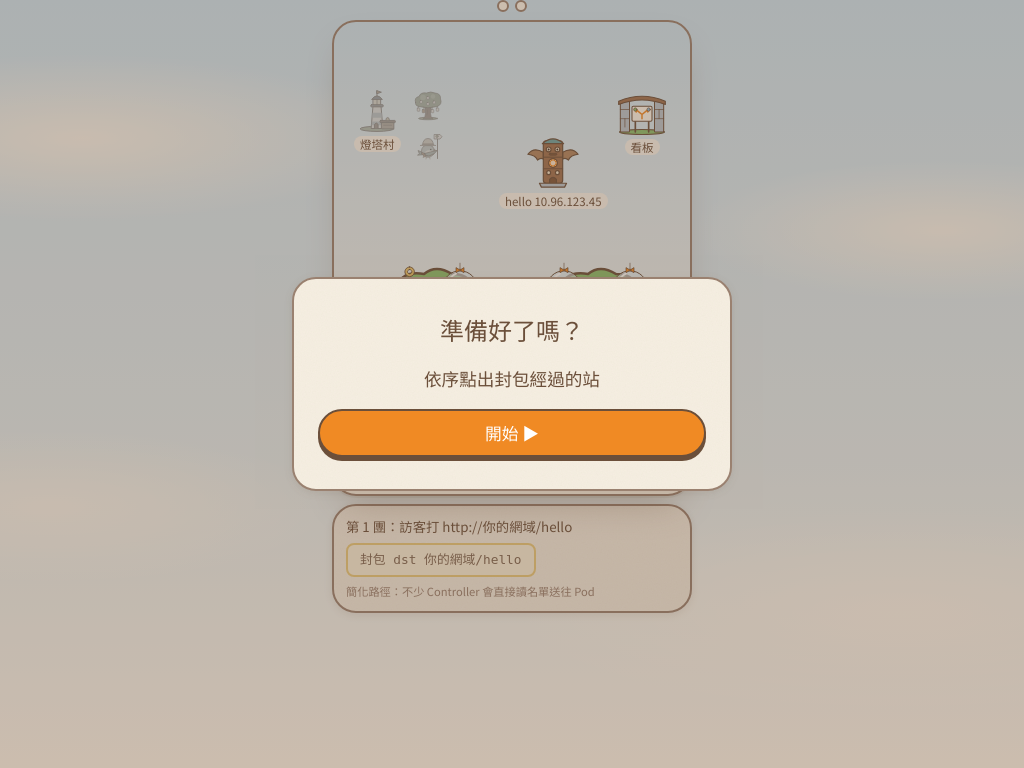
Test: Day18Game › 第 1 團先點看板，提示要先有守門員讀它且不前進
The image size is (1024, 768).
Step 1. Click the button with test id "shell-start" → (512, 433), box [318, 409, 706, 457]
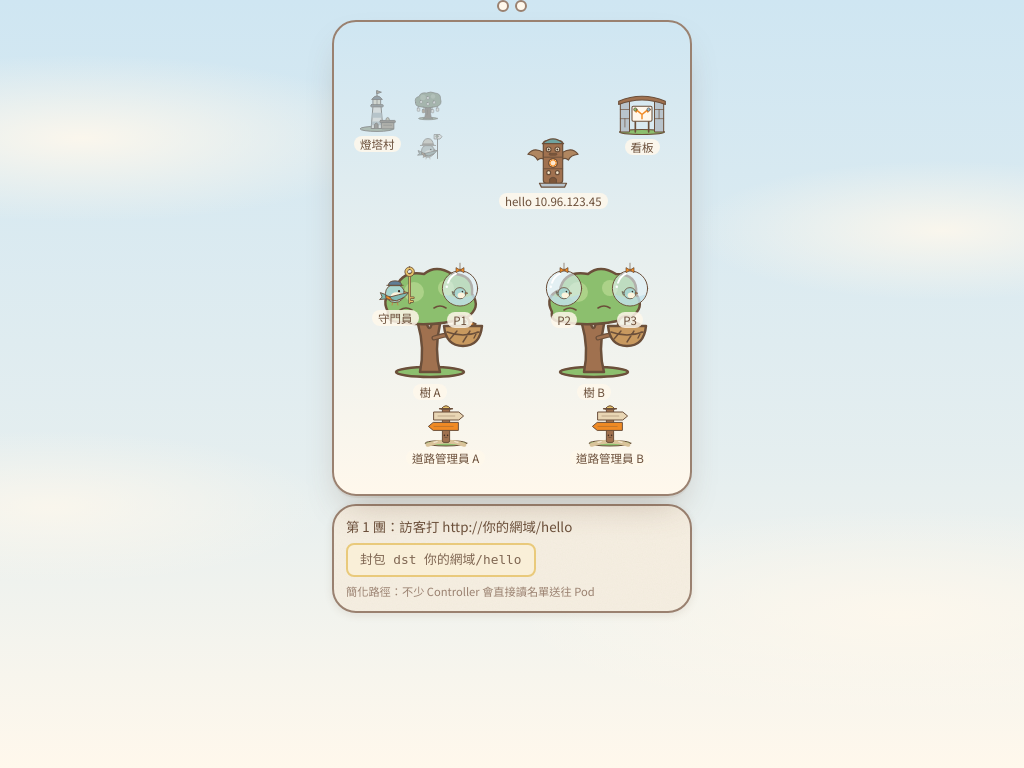
Step 2. Click the button "看板" → (642, 121), box [617, 87, 667, 155]
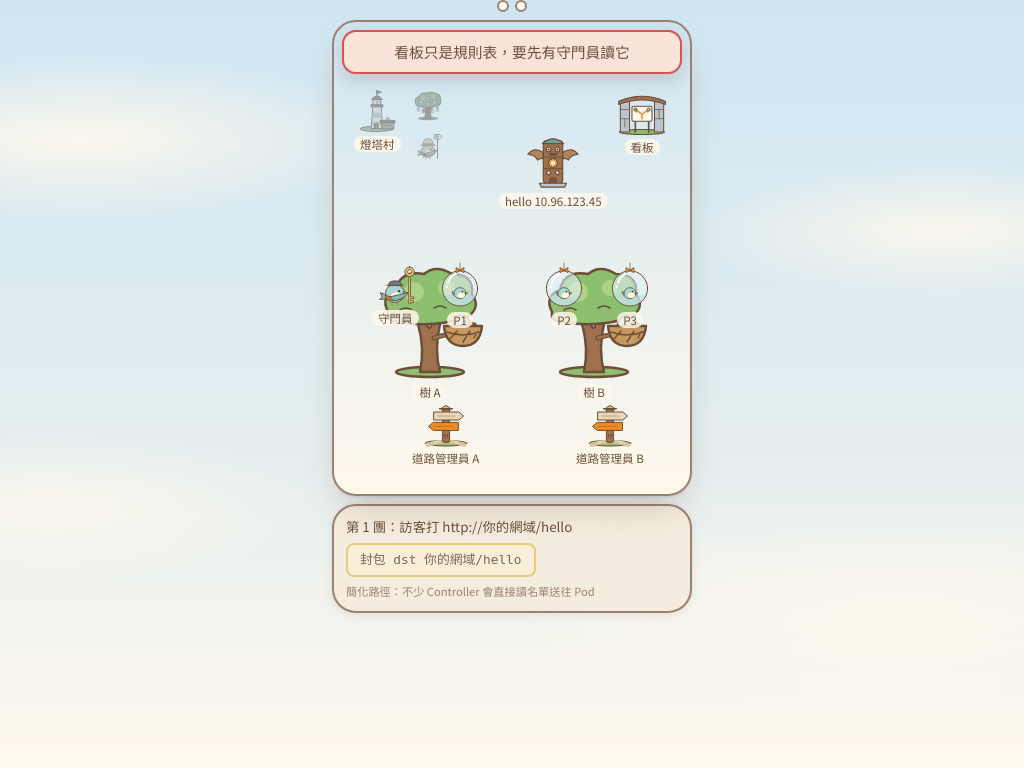
Expected: the button with test id "packet" shows "你的網域/hello", [346, 544, 536, 578]
Result: the message "看板只是規則表，要先有守門員讀它" is shown at [342, 30, 682, 74]
